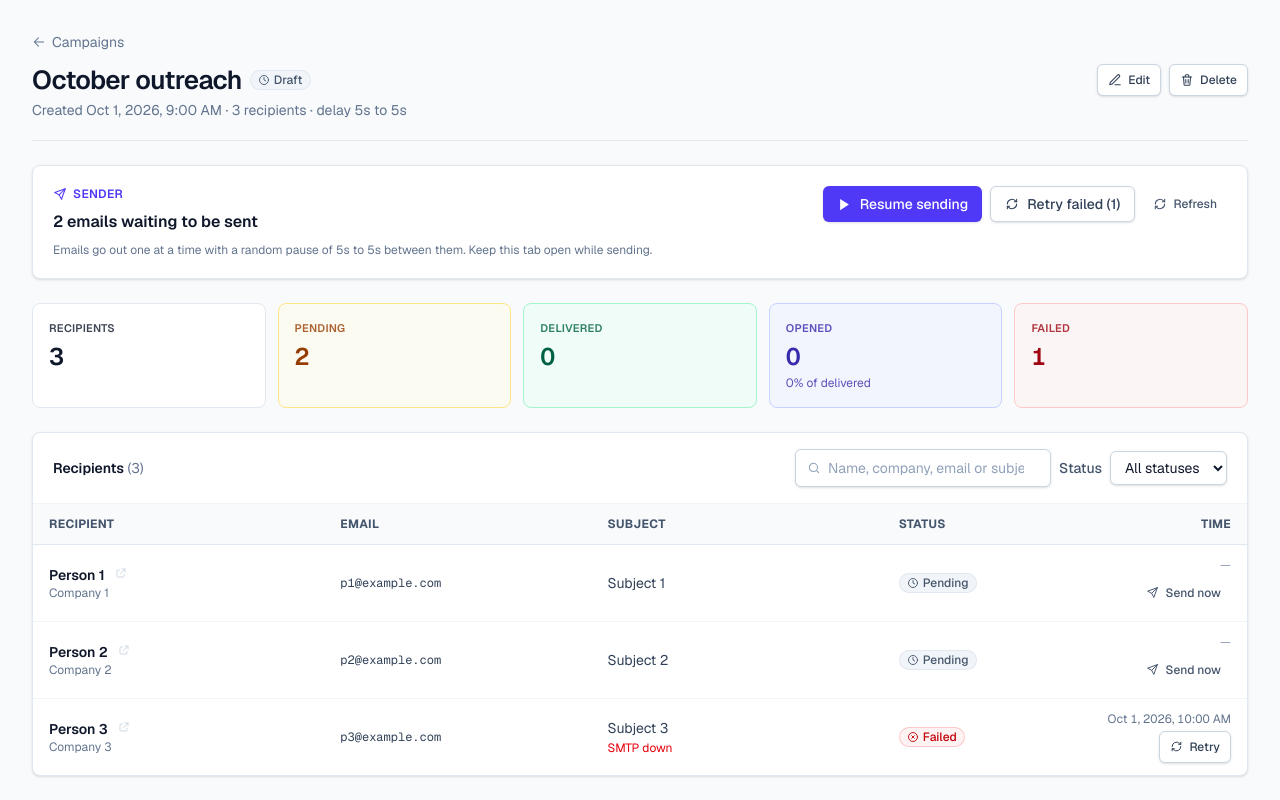
Test: CampaignDetailPage › edits name and delays through the dialog and rejects an inverted range
The width and height of the screenshot is (1280, 800).
Expected: the heading "October outreach" is shown, [32,64,242,96]
Click the button "Edit".
click(1129, 80)  # box [1097,64,1161,96]
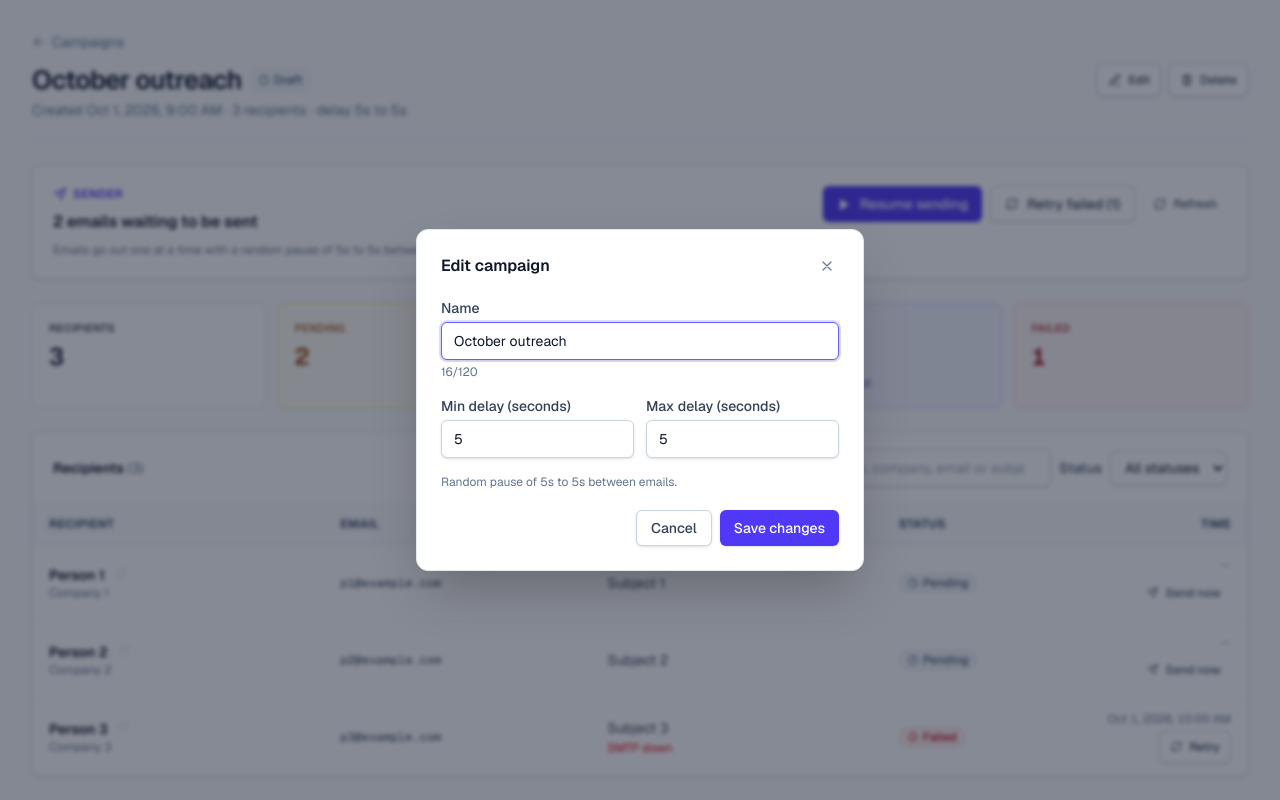
Replace the text in the number field labelled "Min delay (seconds)" with "90" at x=538, y=439, box [441,420,634,458]
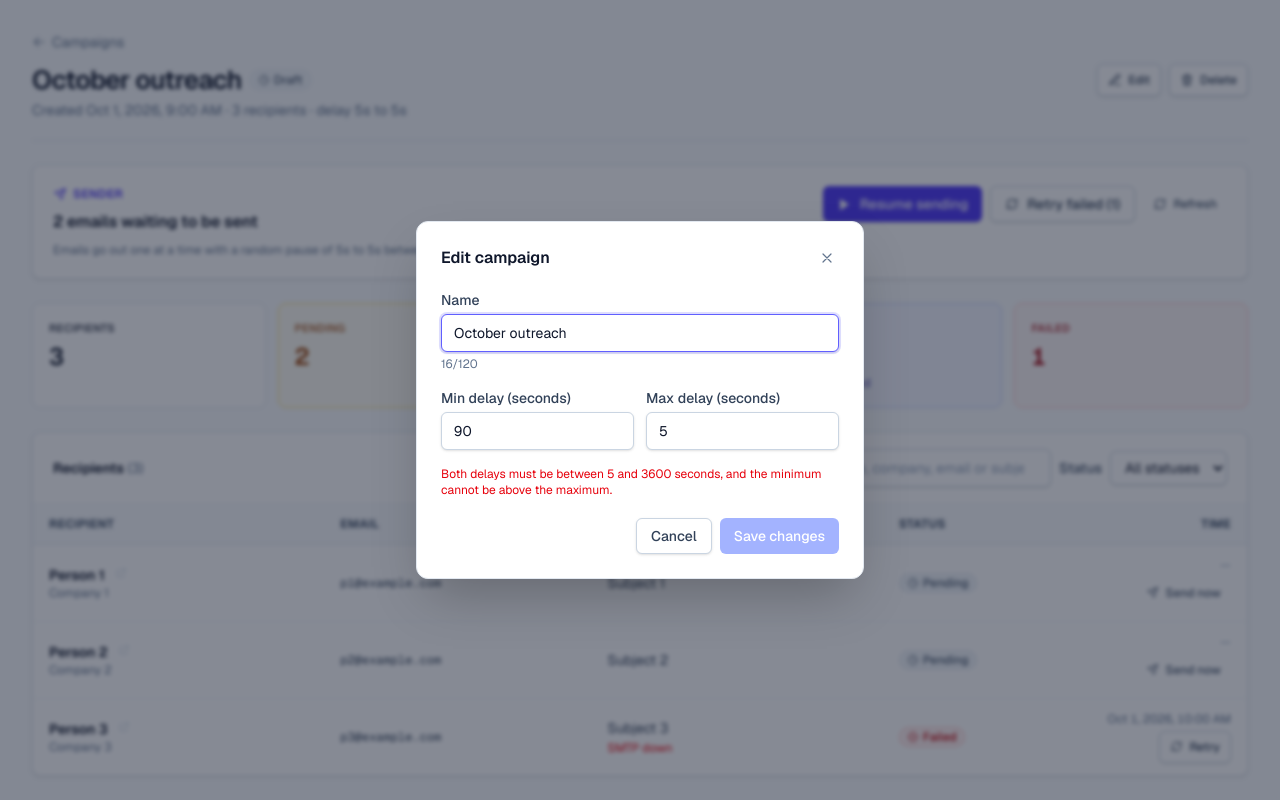
Replace the text in the number field labelled "Max delay (seconds)" with "30" at x=742, y=431, box [646,412,839,450]
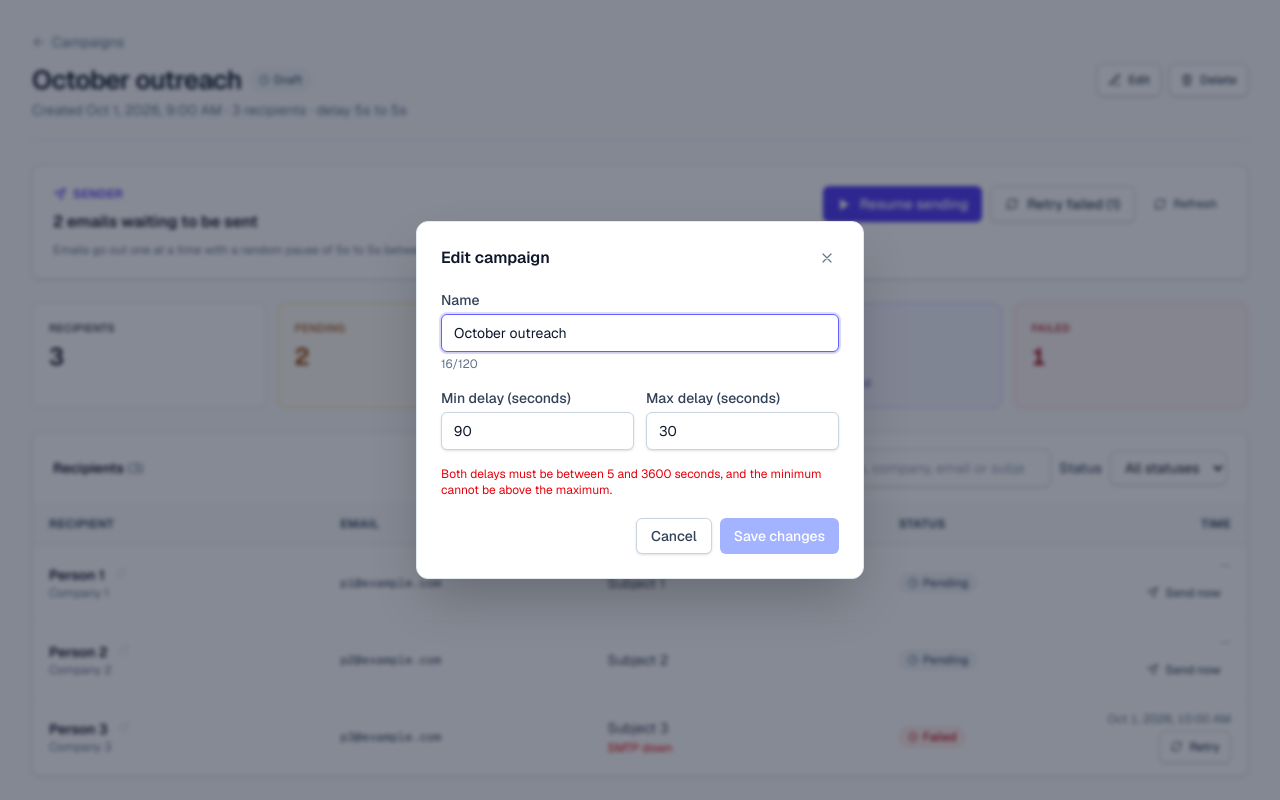
Expected: the button "Save changes" is disabled, [720,518,839,554]
Replace the text in the number field labelled "Max delay (seconds)" with "120" at x=742, y=431, box [646,412,839,450]
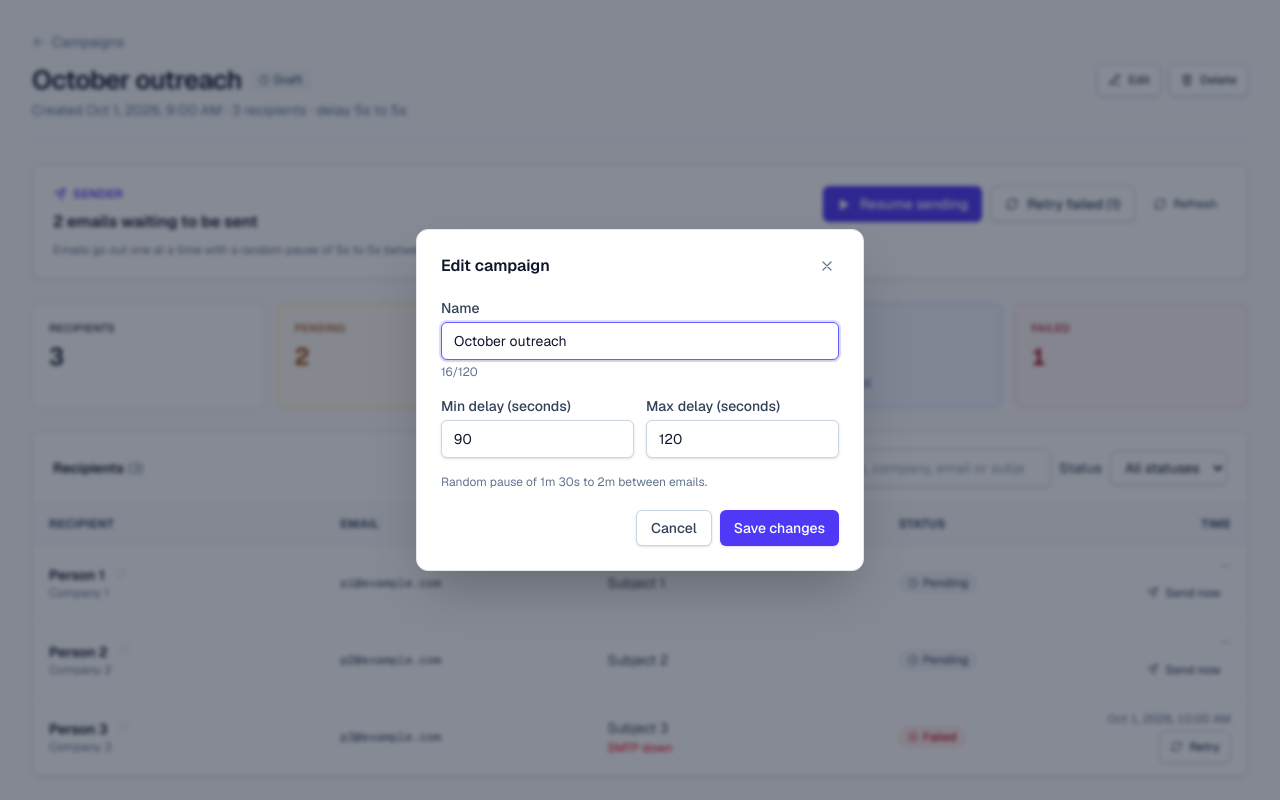
Replace the text in the field labelled "Name" with "Renamed" at x=640, y=341, box [441,322,839,360]
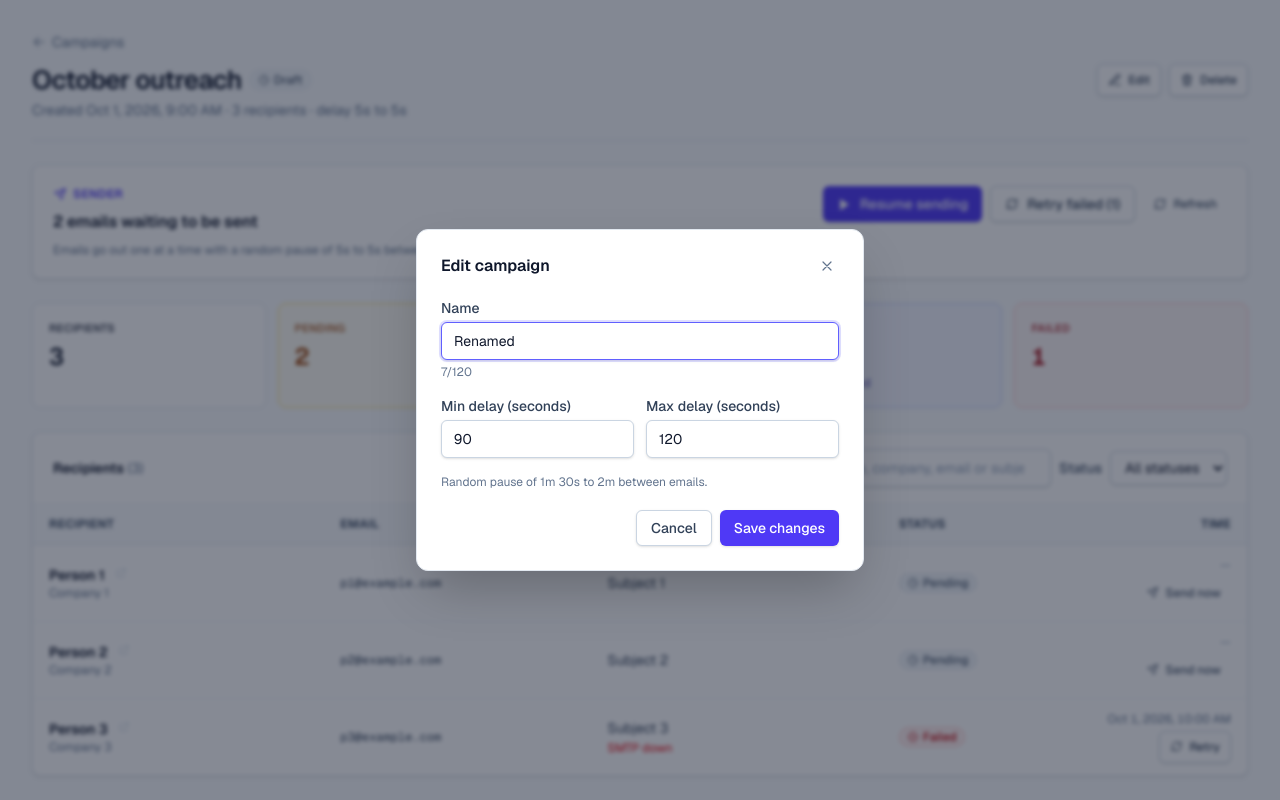
Click the button "Save changes".
click(779, 528)  # box [720,510,839,546]
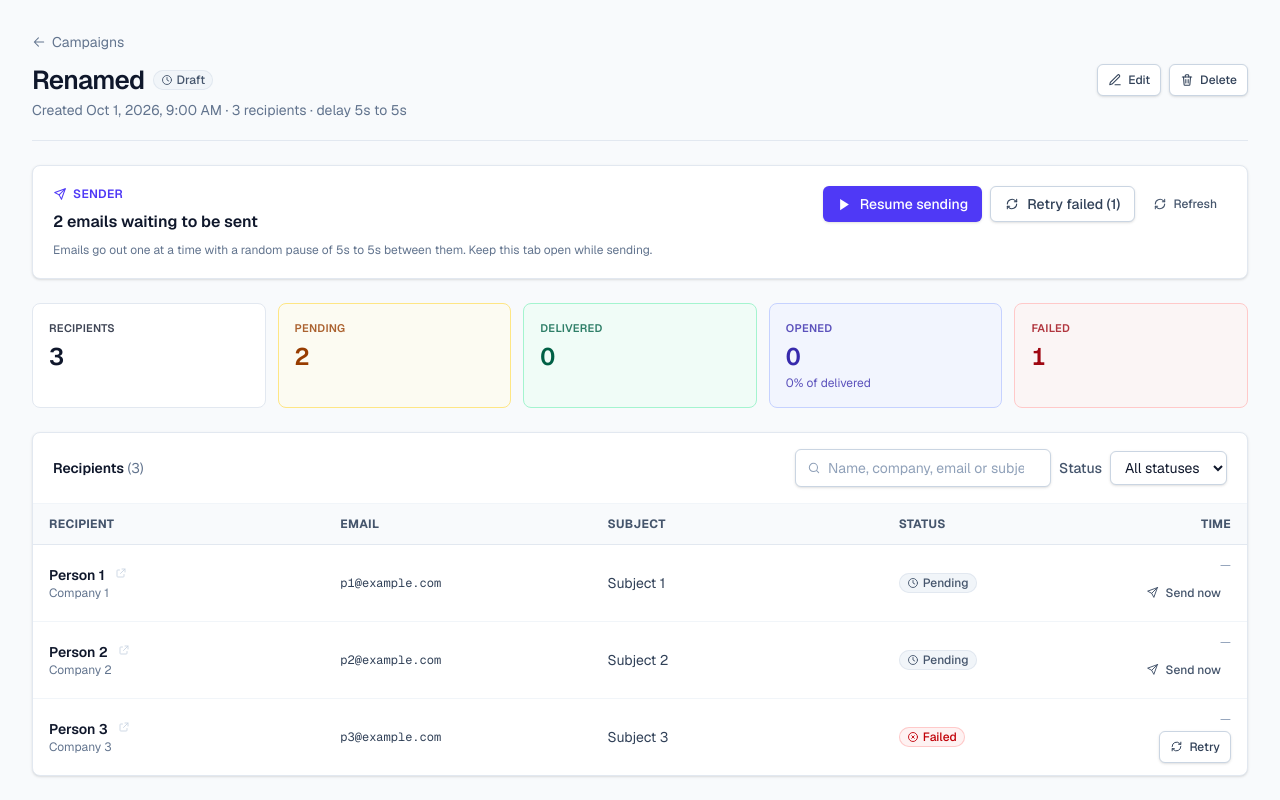
Expected: the heading "Renamed" is shown, [32,64,144,96]
